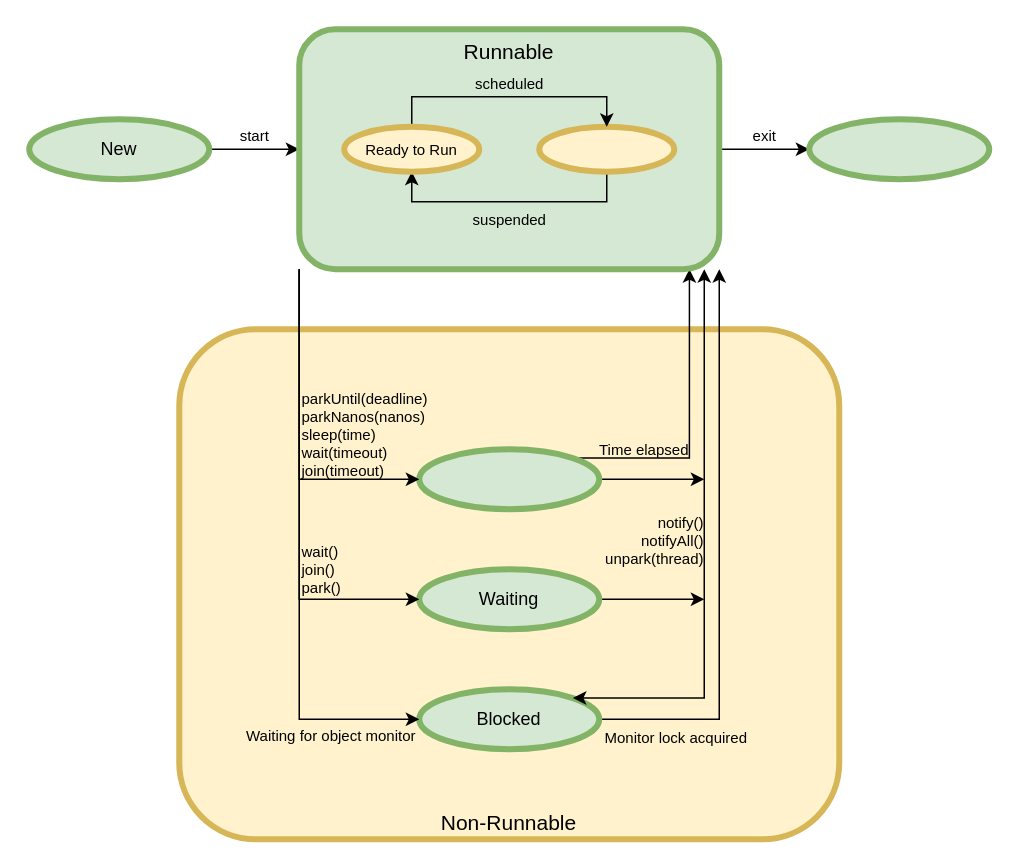
Some shapes in this 1017 by 867 pixel diagram are drawn without their labels. Each missing label, with the box of its shape:
Running: (536, 123, 676, 174)
Terminated: (806, 116, 992, 182)
Timed Waiting: (416, 446, 602, 512)
